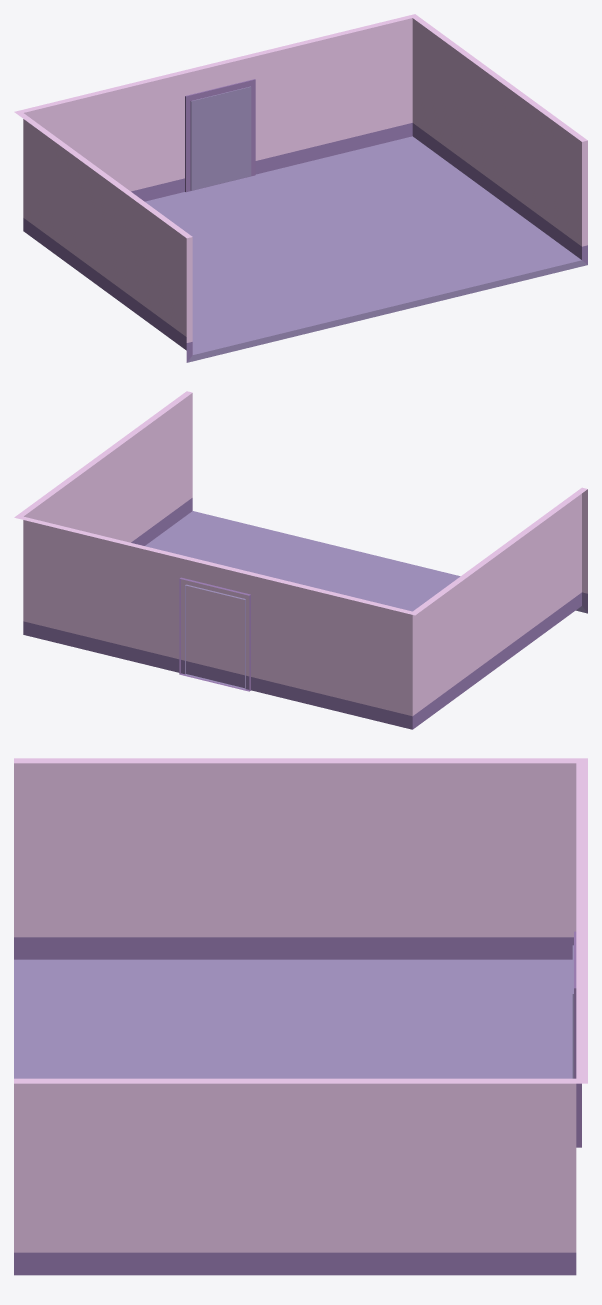
File: Map1.fbx
3 views of the same model, one above another, from view 1: azimuth 30°, elevation 25°; view 2: azimuth 150°, elevation 25°; view 3: azimuth 270°, elevation 25° (orthographic). The views are drawn at different scales.
Parts seen in each view (by area): view 1: Map 1.001, Door.002, Door.003; view 2: Map 1.001, Door.003; view 3: Map 1.001, Door.003.
Boxes of the visible parts, x1,y1,x2,y2 form: Map 1.001: (14,14,587,362); Door.002: (190,86,251,190); Door.003: (185,79,255,192); Map 1.001: (14,391,587,729); Door.003: (179,577,250,691); Map 1.001: (14,758,587,1275); Door.003: (574,931,581,1147).
Bounding box in the file's own units: 13.37 × 3.97 × 9.97.
